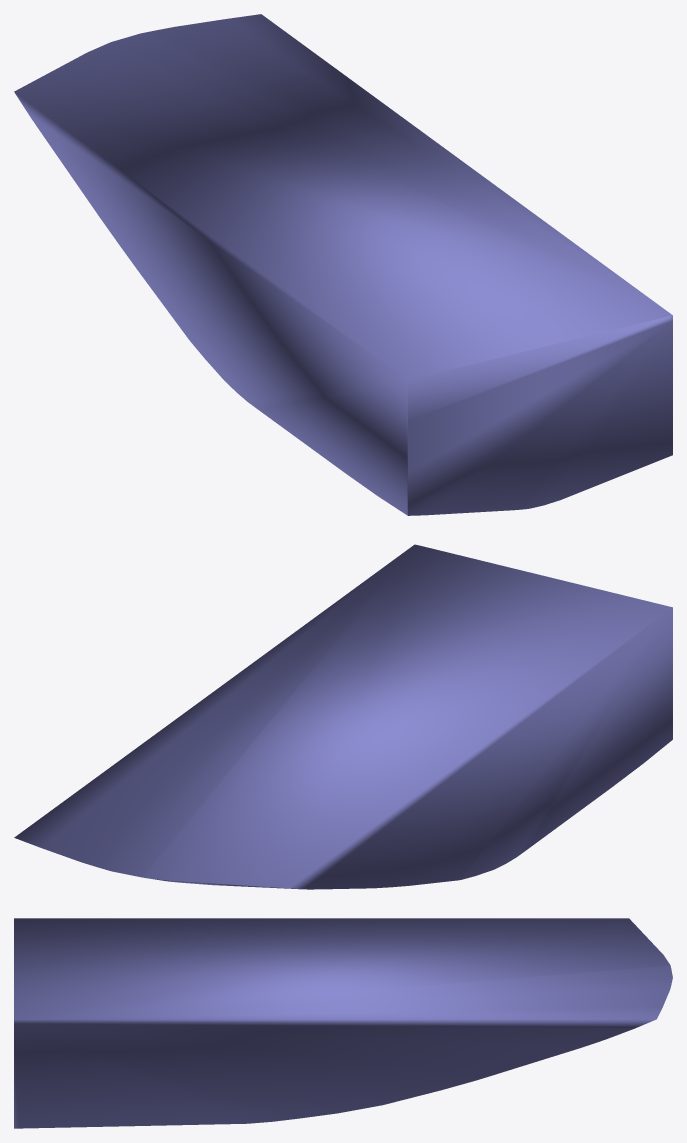
The model's file is bee_toy_1_coacd_single_link_urdf_convex_piece_12.obj.
The picture shows the model from 3 angles, top to bottom: view 1: azimuth 30°, elevation 25°; view 2: azimuth 150°, elevation 25°; view 3: azimuth 270°, elevation 25°; orthographic projection. The views are drawn at different scales.
Size of the model in its own units: 0.0358 by 0.0205 by 0.0988.
